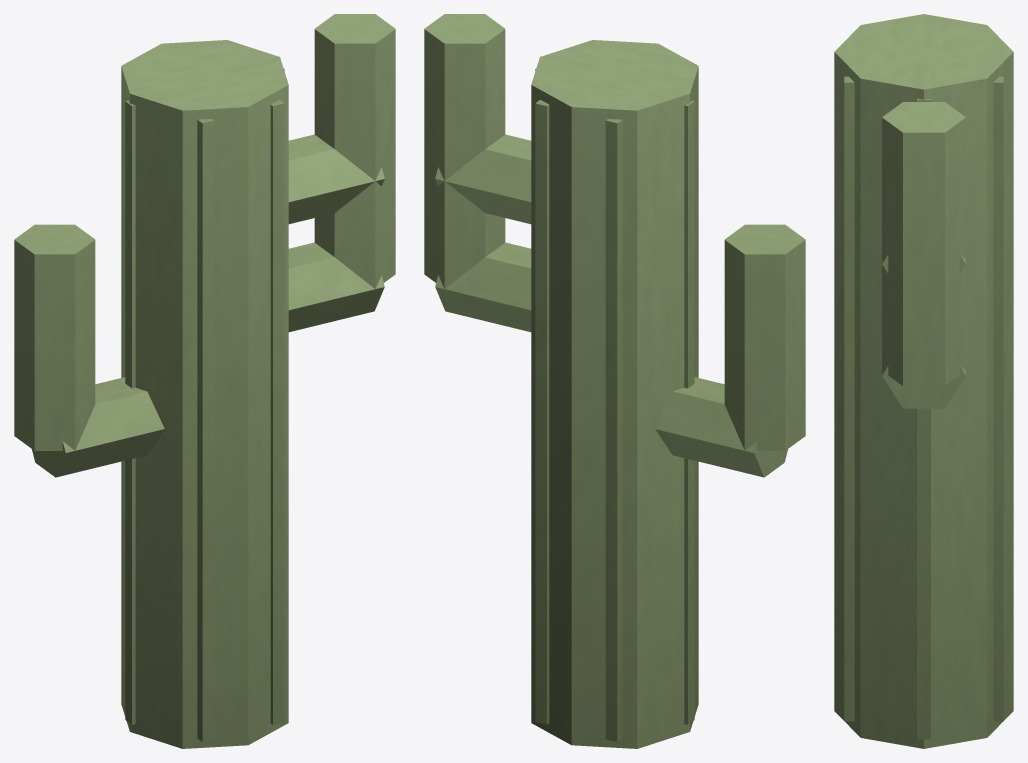
File: cactus.glb
3 views of the same model, side by side, from view 1: azimuth 30°, elevation 25°; view 2: azimuth 150°, elevation 25°; view 3: azimuth 270°, elevation 25° (orthographic). The views are drawn at different scales.
Parts seen in each view (by area): view 1: cactus; view 2: cactus; view 3: cactus.
Part boxes in pixels (<box>): cactus: <box>14,14,395,748</box>; cactus: <box>424,14,805,748</box>; cactus: <box>834,14,1013,748</box>.
Size of the model in its own units: 0.7699 by 1.32 by 0.32.
Materials: 1 (1 with a texture image).
